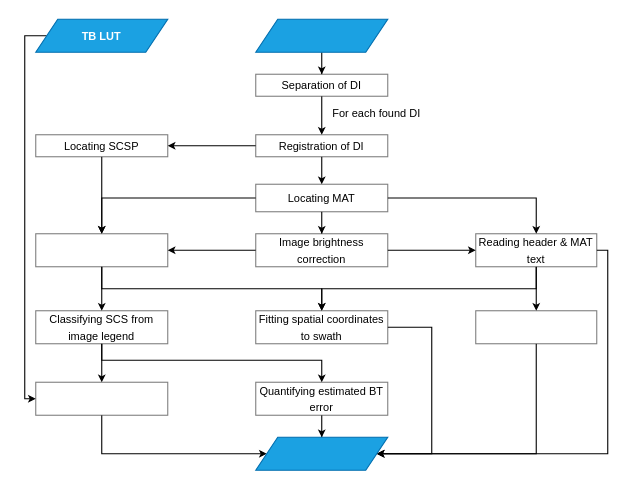
Some shapes in this 634 by 490 pixel diagram are drawn without their labels. Here are the shapes that lost their labels. From the top down, the centre of each, then its label:
pixel 321 35: Source TIF
pixel 101 250: Combining SCSP into SCS
pixel 536 327: Fitting time to swath
pixel 101 398: Making CS using SCS and LUT
pixel 321 453: NetCDF output
